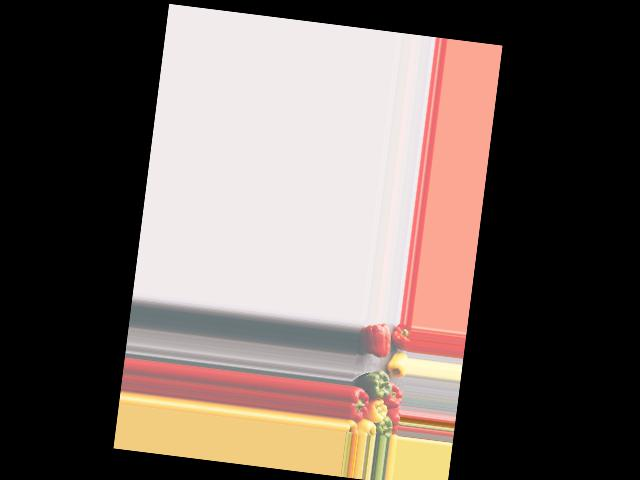bell_pepper: (390, 322, 409, 351)
